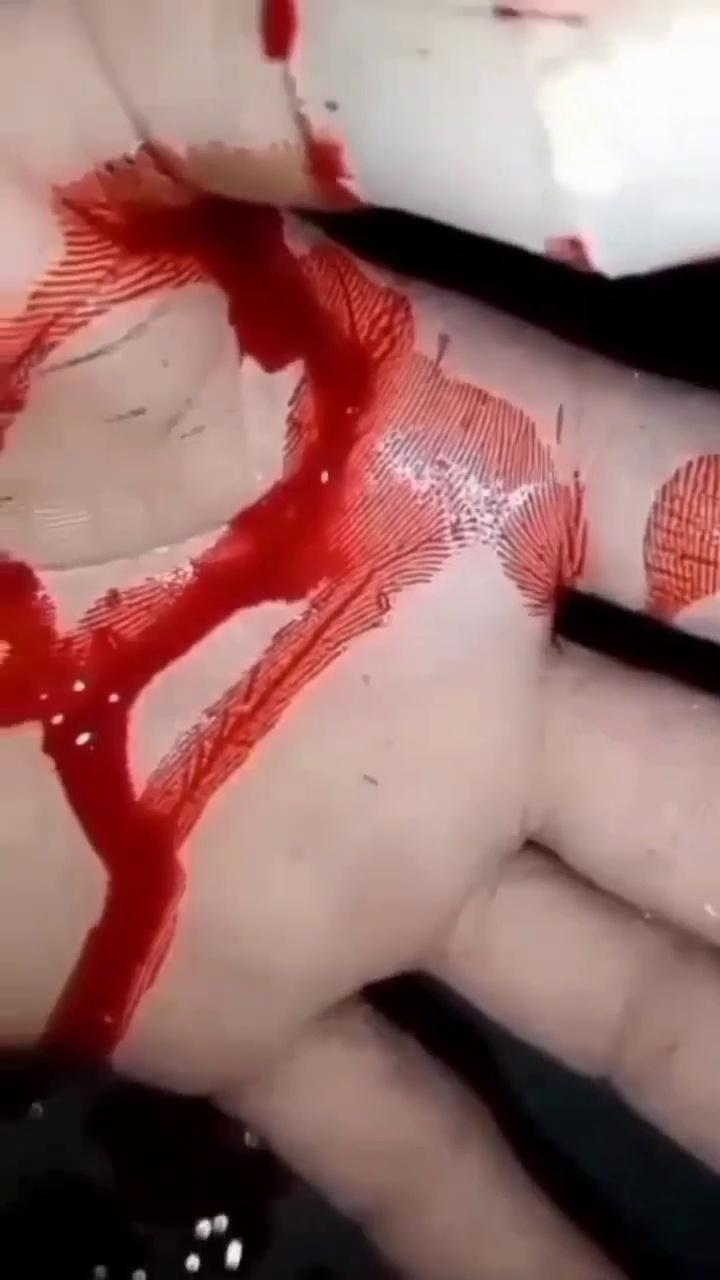Fire: (1, 0, 720, 1280), (363, 981, 718, 1280)
